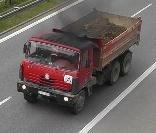truck: (14, 8, 142, 113)
